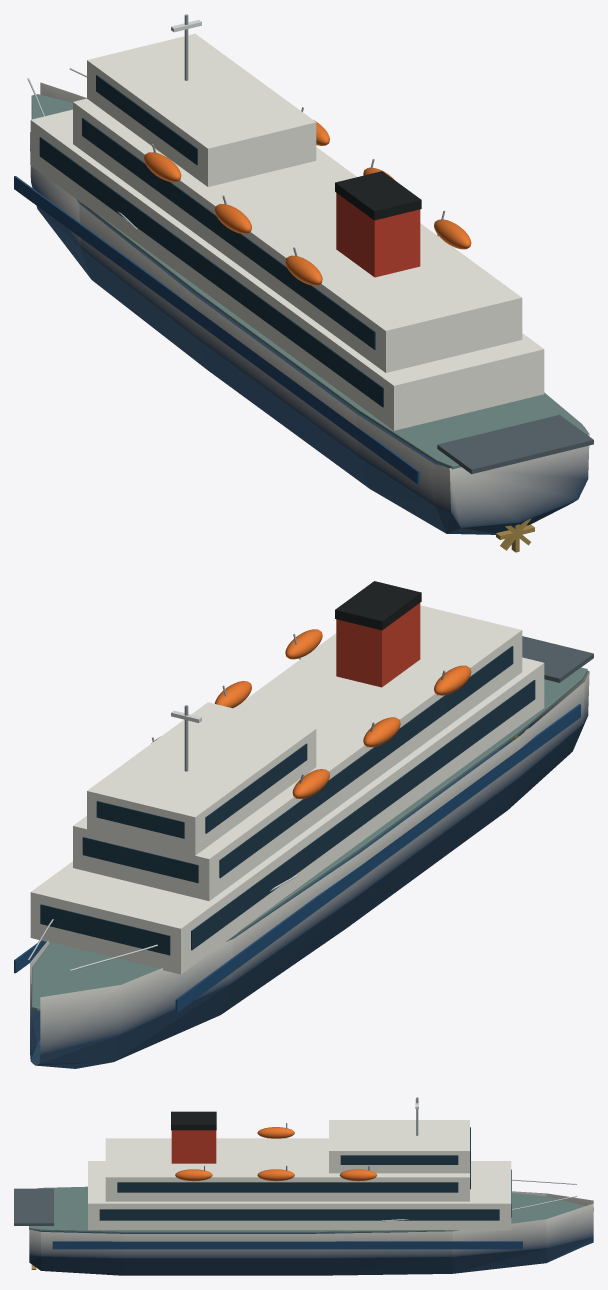
File: ferry.glb
The picture shows the model from 3 angles, top to bottom: view 1: azimuth 30°, elevation 25°; view 2: azimuth 150°, elevation 25°; view 3: azimuth 270°, elevation 25°; orthographic projection. The views are drawn at different scales.
Parts seen in each view (by area): view 1: FerryCabinAssembly, FerryHull, CabinWindowAssembly, FerryDeck, FerryStripeAssembly, CarRamp, FerryFunnel, LifeboatAssembly, FunnelBand, ScrewBladeAssembly; view 2: FerryCabinAssembly, FerryHull, CabinWindowAssembly, FerryDeck, FerryStripeAssembly, FerryFunnel, LifeboatAssembly, FunnelBand, CarRamp; view 3: FerryCabinAssembly, FerryHull, CabinWindowAssembly, FerryStripeAssembly, FerryDeck, FerryFunnel, CarRamp, LifeboatAssembly, FunnelBand, FerryRailAssembly.
Boxes of the visible parts, box(x1,y1,x2,y2) form: FerryCabinAssembly: box(30, 33, 544, 430); FerryHull: box(30, 82, 589, 534); CabinWindowAssembly: box(39, 75, 383, 407); FerryDeck: box(31, 94, 587, 469); FerryStripeAssembly: box(14, 176, 419, 484); CarRamp: box(437, 415, 593, 474); FerryFunnel: box(336, 193, 420, 277); LifeboatAssembly: box(144, 120, 471, 285); FunnelBand: box(335, 171, 421, 220); ScrewBladeAssembly: box(496, 518, 534, 552); FerryCabinAssembly: box(30, 605, 544, 974); FerryHull: box(30, 671, 589, 1068); CabinWindowAssembly: box(40, 646, 535, 955); FerryDeck: box(31, 667, 587, 1011); FerryStripeAssembly: box(14, 704, 580, 1012); FerryFunnel: box(336, 603, 420, 687); LifeboatAssembly: box(151, 629, 471, 798); FunnelBand: box(335, 581, 421, 630); CarRamp: box(522, 636, 593, 682); FerryCabinAssembly: box(88, 1120, 511, 1230); FerryHull: box(29, 1191, 593, 1275); CabinWindowAssembly: box(99, 1127, 511, 1220); FerryStripeAssembly: box(52, 1241, 522, 1249); FerryDeck: box(29, 1186, 593, 1232); FerryFunnel: box(171, 1130, 216, 1163); CarRamp: box(14, 1188, 53, 1225); LifeboatAssembly: box(175, 1127, 376, 1181); FunnelBand: box(171, 1111, 216, 1130); FerryRailAssembly: box(382, 1179, 577, 1221).
Bounding box in the file's own units: 9.6 × 16.1 × 49.34.
